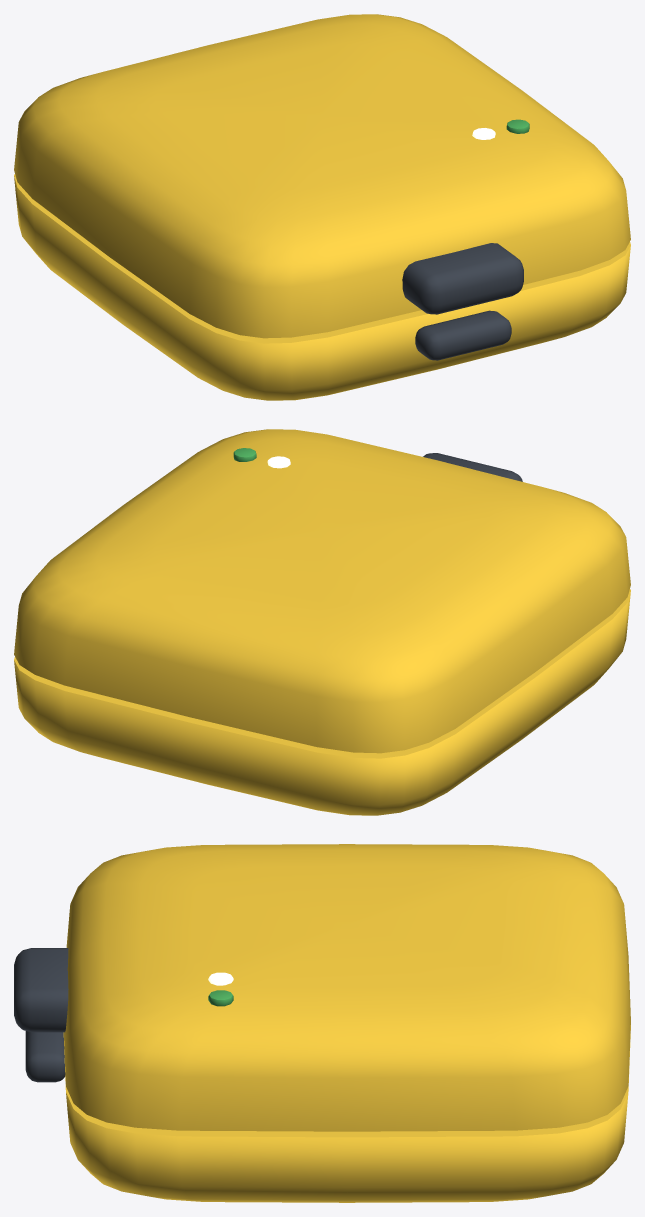
The model's file is sanduicheira_amarela.glb.
The picture shows the model from 3 angles, top to bottom: view 1: azimuth 30°, elevation 25°; view 2: azimuth 150°, elevation 25°; view 3: azimuth 270°, elevation 25°; orthographic projection. The views are drawn at different scales.
Parts seen in each view (by area): view 1: tampa, sanduicheira_amarela; view 2: tampa, sanduicheira_amarela; view 3: tampa, sanduicheira_amarela.
Part boxes in pixels (x1,y1,x2,y2): tampa: (14, 14, 630, 338); sanduicheira_amarela: (14, 174, 630, 400); tampa: (14, 429, 630, 753); sanduicheira_amarela: (14, 589, 630, 815); tampa: (14, 844, 630, 1131); sanduicheira_amarela: (25, 1025, 630, 1202).
Size of the model in its own units: 0.25 by 0.108 by 0.2935.
Materials: 2 (1 with a texture image).
